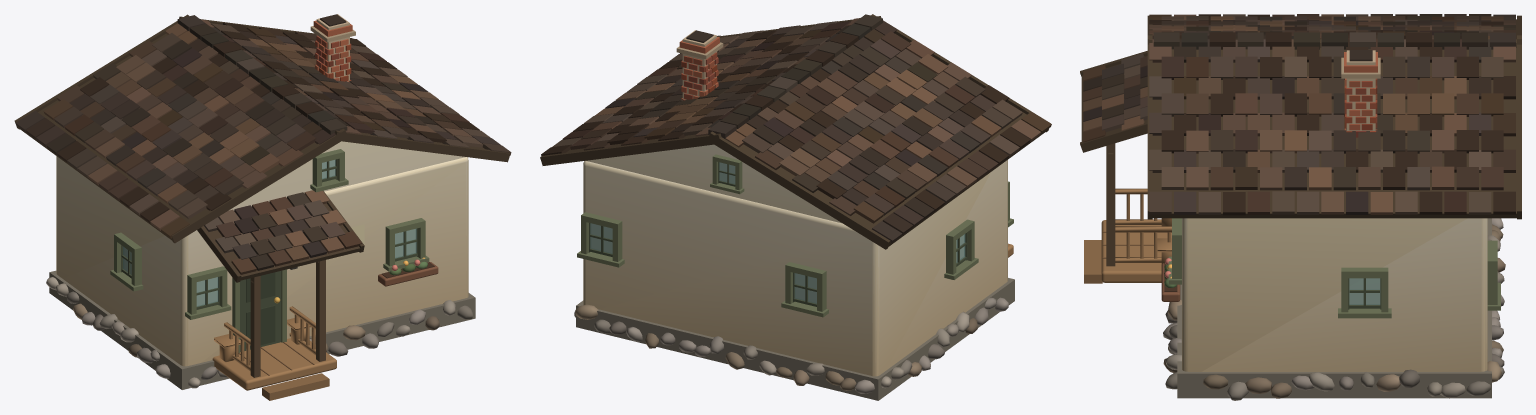
Rendered from farmhouse.fixed.m1.glb.
The picture shows the model from 3 angles, left to right: view 1: azimuth 30°, elevation 25°; view 2: azimuth 150°, elevation 25°; view 3: azimuth 270°, elevation 25°; orthographic projection. The views are drawn at different scales.
Parts seen in each view (by area): view 1: farmhousebatch0, farmhouseWalls, farmhouseFoundation, farmhousebatch1, farmhousebatch2, porch, frontDoor, chimney, porchRailAndSeats, windowFrame_3, windowPane, windowPane_1; view 2: farmhouseWalls, farmhousebatch0, farmhouseFoundation, chimney, windowFrame, windowFrame_1, windowFrame_3, windowFrame_2, windowPane_4, windowPane_5; view 3: farmhousebatch0, farmhouseWalls, farmhouseFoundation, chimney, farmhousebatch1, farmhousebatch2, porch, porchRailAndSeats, windowFrame, windowPane_2.
Boxes of the visible parts, x1=… form: farmhousebatch0: x1=14, y1=14, x2=511, y2=282; farmhouseWalls: x1=56, y1=141, x2=468, y2=366; farmhouseFoundation: x1=46, y1=270, x2=475, y2=389; farmhousebatch1: x1=238, y1=257, x2=438, y2=400; farmhousebatch2: x1=185, y1=149, x2=429, y2=319; porch: x1=212, y1=338, x2=336, y2=390; frontDoor: x1=232, y1=269, x2=286, y2=352; chimney: x1=310, y1=14, x2=355, y2=82; porchRailAndSeats: x1=214, y1=306, x2=315, y2=371; windowFrame_3: x1=110, y1=232, x2=143, y2=291; windowPane: x1=196, y1=277, x2=218, y2=306; windowPane_1: x1=395, y1=228, x2=416, y2=258; farmhouseWalls: x1=583, y1=144, x2=1007, y2=376; farmhousebatch0: x1=540, y1=14, x2=1051, y2=249; farmhouseFoundation: x1=574, y1=278, x2=1014, y2=400; chimney: x1=676, y1=30, x2=723, y2=100; windowFrame: x1=577, y1=212, x2=624, y2=267; windowFrame_1: x1=781, y1=262, x2=828, y2=317; windowFrame_3: x1=944, y1=219, x2=978, y2=279; windowFrame_2: x1=710, y1=154, x2=744, y2=194; windowPane_4: x1=590, y1=223, x2=612, y2=253; windowPane_5: x1=794, y1=273, x2=816, y2=303; farmhousebatch0: x1=1080, y1=14, x2=1521, y2=219; farmhouseWalls: x1=1182, y1=218, x2=1487, y2=371; farmhouseFoundation: x1=1163, y1=218, x2=1505, y2=400; chimney: x1=1341, y1=50, x2=1380, y2=137; farmhousebatch1: x1=1084, y1=143, x2=1180, y2=301; farmhousebatch2: x1=1168, y1=218, x2=1391, y2=318; porch: x1=1101, y1=220, x2=1171, y2=282; porchRailAndSeats: x1=1115, y1=188, x2=1171, y2=264; windowFrame: x1=1487, y1=240, x2=1500, y2=310; windowPane_2: x1=1349, y1=278, x2=1380, y2=304.
Size of the model in its own units: 8.57 by 6.26 by 8.09.
